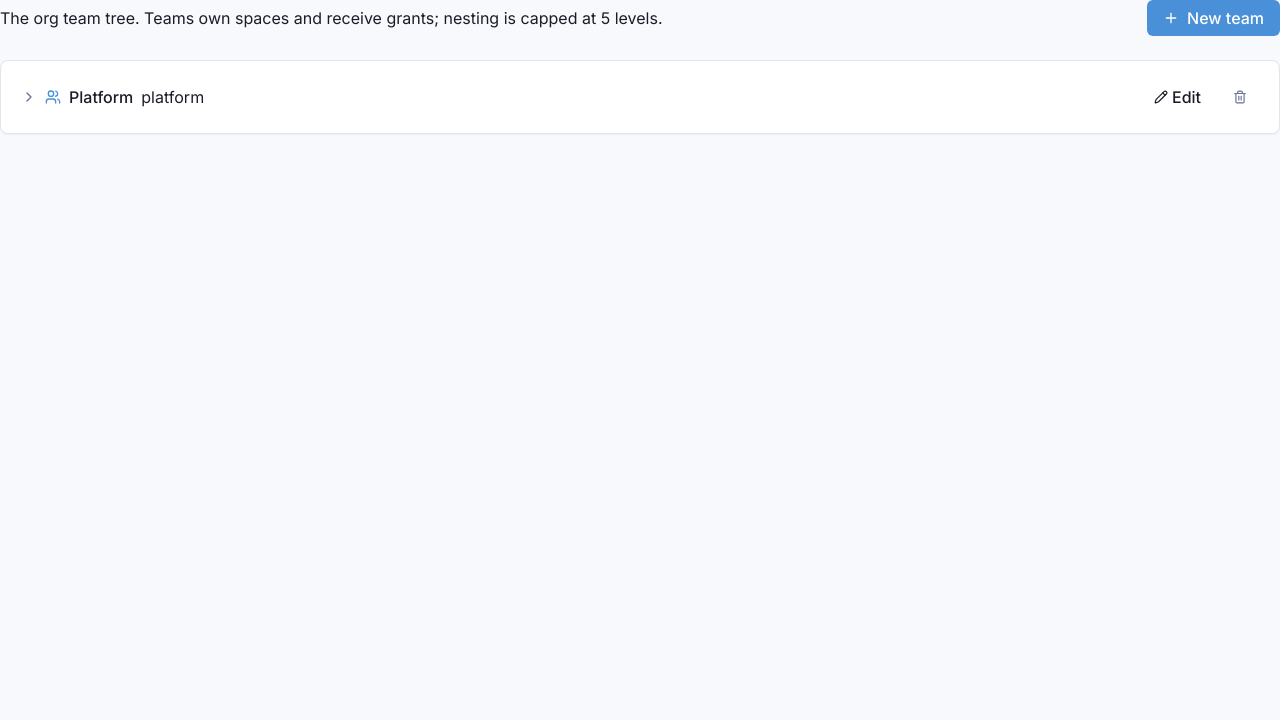
Test: TeamsAdminPage — required mode gates the submits (B5) › leaves create enabled with an empty reference when the deployment does not require one
The image size is (1280, 720).
Click the button with test id "team-create-button" at point(1214, 18), box [1147,0,1279,36]
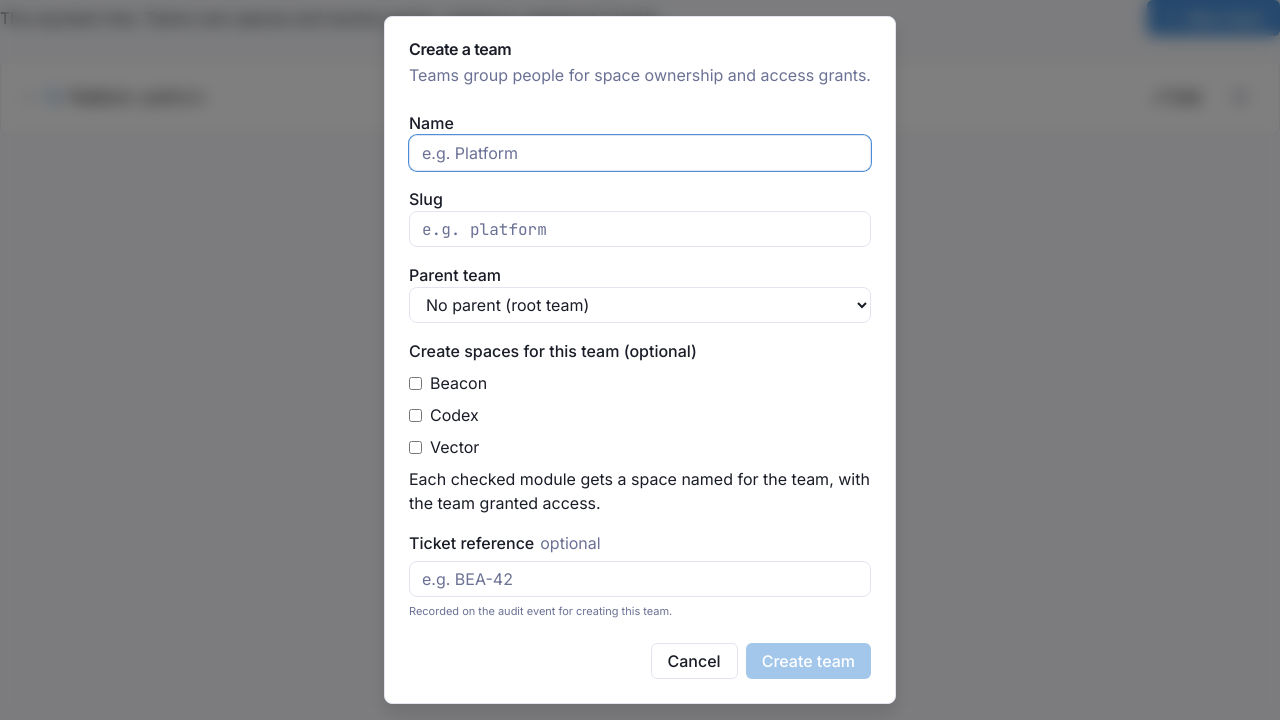
Type "DevOps" into the field with test id "team-create-name" at point(640, 153), box [409,135,871,171]
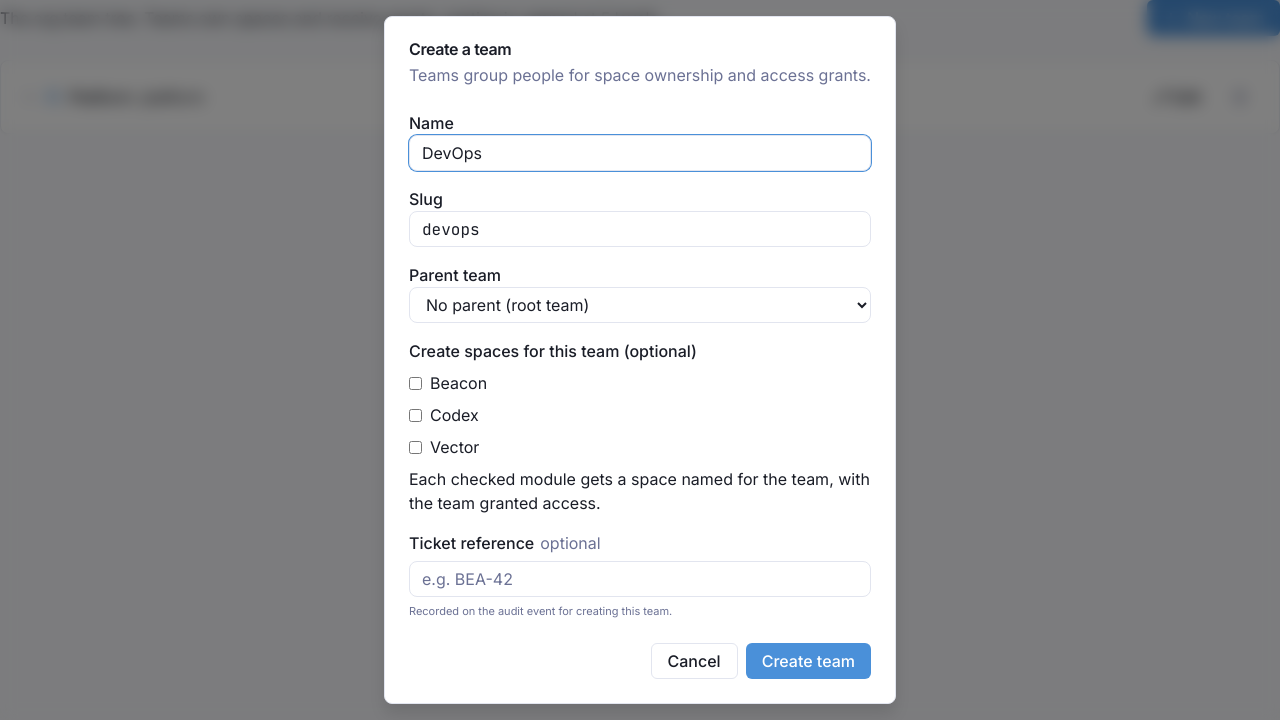
Expected: the button with test id "team-create-submit" is enabled, [746,643,871,679]
